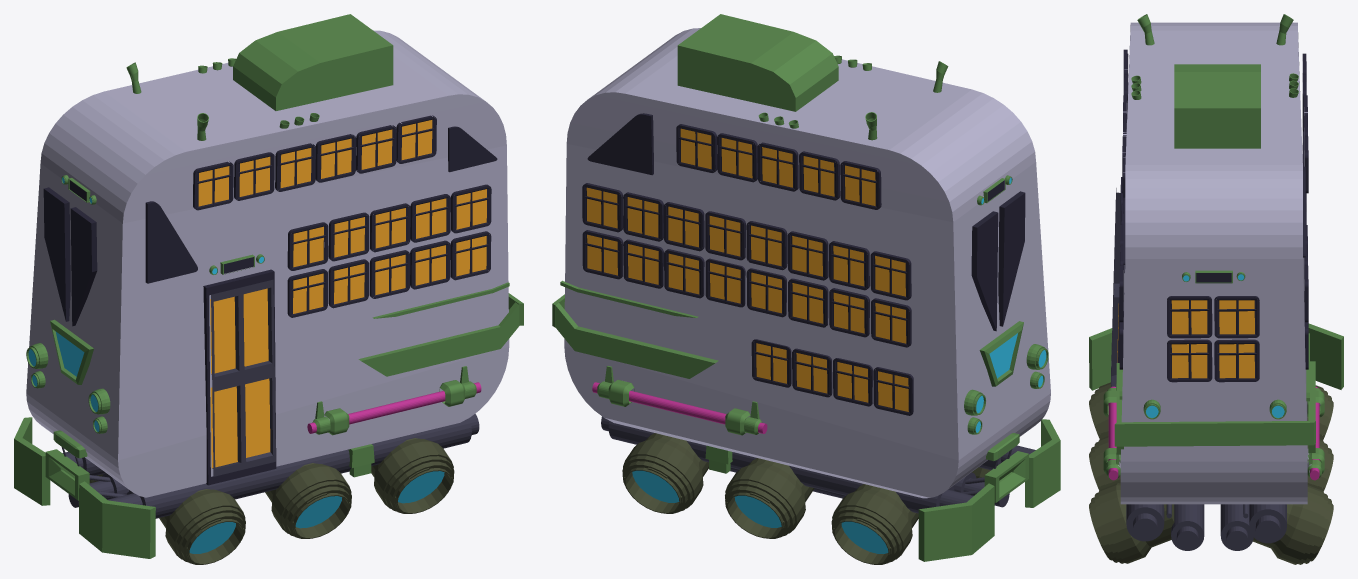
File: SM_robus_true.fbx
3 renders of one model, left to right at view 1: azimuth 30°, elevation 25°; view 2: azimuth 150°, elevation 25°; view 3: azimuth 270°, elevation 25°, orthographic.
Parts seen in each view (by area): view 1: BUS _joined, DOOR_sliding; view 2: BUS _joined; view 3: BUS _joined, DOOR_sliding.
Boxes of the visible parts, box(x1,y1,x2,y2) form: BUS _joined: box(14, 14, 523, 564); DOOR_sliding: box(210, 279, 275, 476); BUS _joined: box(552, 14, 1060, 564); BUS _joined: box(1089, 14, 1343, 564); DOOR_sliding: box(1111, 188, 1120, 386).
Size of the model in its own units: 715 by 735 by 374.
